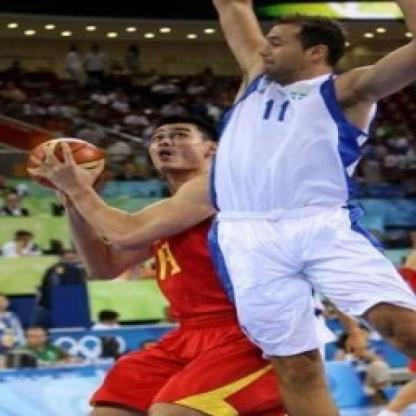basketball: (24, 132, 100, 194)
